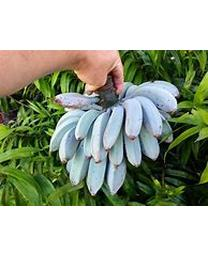banana: (48, 79, 178, 195)
